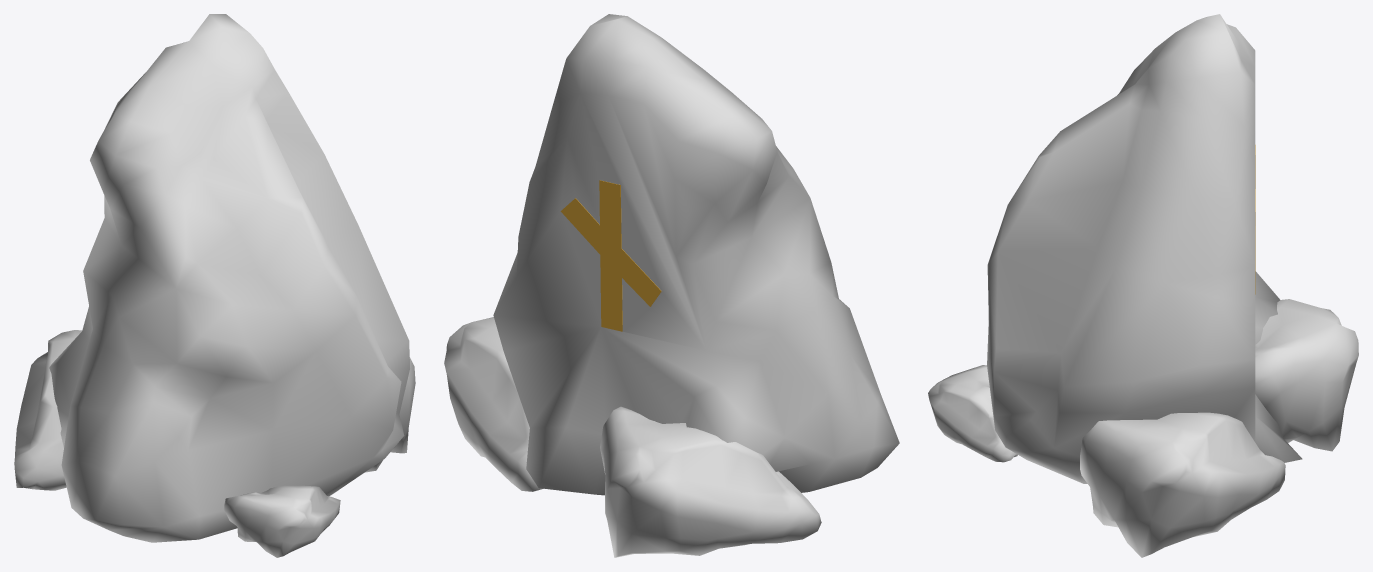
File: Nauthiz.fbx
3 renders of one model, left to right at view 1: azimuth 30°, elevation 25°; view 2: azimuth 150°, elevation 25°; view 3: azimuth 270°, elevation 25°, orthographic. The views are drawn at different scales.
Parts seen in each view (by area): view 1: stone; view 2: stone, Nauthiz; view 3: stone.
Boxes of the visible parts, left/top/right/bottom form: stone: left=14, top=14, right=415, bottom=557; stone: left=444, top=14, right=899, bottom=557; Nauthiz: left=560, top=180, right=661, bottom=331; stone: left=928, top=14, right=1358, bottom=557.
Size of the model in its own units: 155 by 181 by 152.
